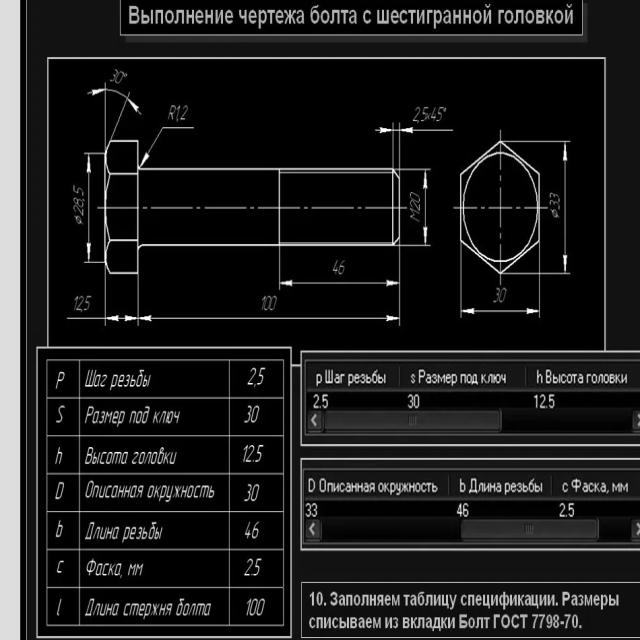marking_line: (140, 313, 399, 322), (280, 280, 400, 287), (563, 144, 569, 274), (85, 156, 92, 260), (463, 307, 539, 315), (423, 170, 430, 246), (402, 125, 454, 135), (106, 315, 137, 322), (374, 125, 392, 133)
numeric: (257, 366, 266, 389), (242, 404, 252, 424), (252, 558, 261, 577), (73, 184, 85, 198), (248, 366, 256, 387), (251, 406, 260, 424), (181, 104, 191, 120), (243, 483, 251, 503), (256, 443, 264, 463), (245, 558, 253, 578), (408, 200, 421, 212), (409, 190, 421, 203), (114, 71, 125, 85), (252, 522, 261, 539), (84, 295, 92, 314), (249, 597, 256, 618), (109, 67, 118, 83), (436, 106, 444, 123), (72, 206, 84, 217), (549, 198, 561, 209), (499, 287, 507, 303), (338, 260, 347, 274), (242, 444, 248, 465), (247, 444, 254, 462), (251, 483, 258, 501), (258, 598, 265, 616), (244, 597, 250, 617), (175, 104, 182, 121), (264, 296, 271, 313), (269, 294, 276, 311), (412, 106, 419, 123), (493, 286, 500, 303), (244, 523, 251, 540), (549, 192, 562, 201), (77, 295, 84, 311), (72, 295, 78, 313), (421, 105, 427, 123), (259, 296, 265, 312), (73, 198, 84, 206), (431, 105, 436, 122), (332, 260, 337, 275)
special_symbol: (86, 87, 140, 140), (141, 124, 197, 166), (550, 209, 561, 220), (74, 215, 82, 226), (426, 112, 431, 121)
